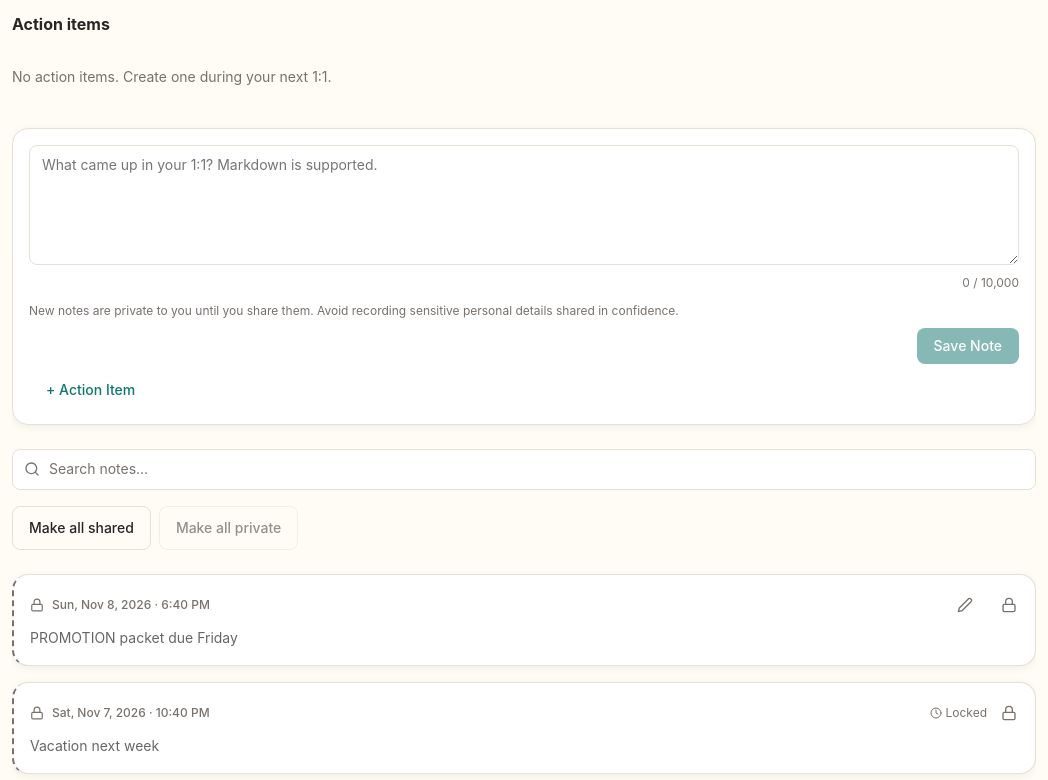
Test case: NotesSection › search › search filters notes by content
Type "promotion" into the search field labelled "Search notes".
click(524, 469); type("promotion")  # box top-left (12, 449), bottom-right (1036, 490)
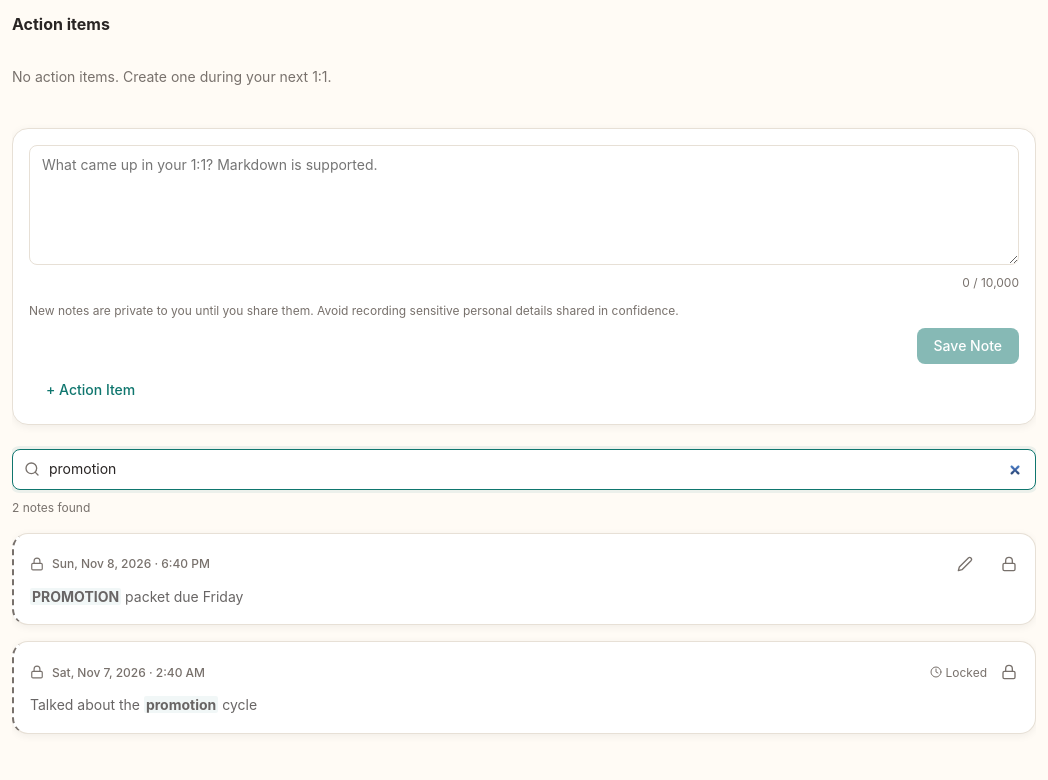
Check: the number of list items is 2, box top-left (12, 533), bottom-right (1036, 625); top-left (12, 641), bottom-right (1036, 734)
Check: the text "Vacation next week" is gone
